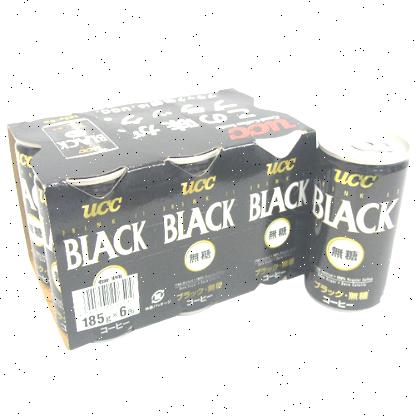Can: (305, 128, 411, 310)
